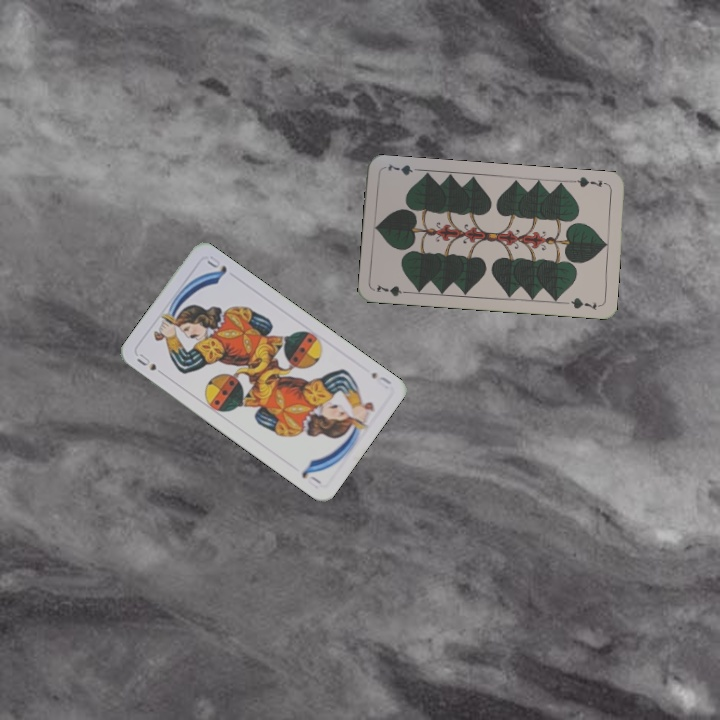G7: (372, 280, 413, 299), (569, 173, 610, 190)
SU: (133, 349, 159, 373), (367, 368, 394, 387)
